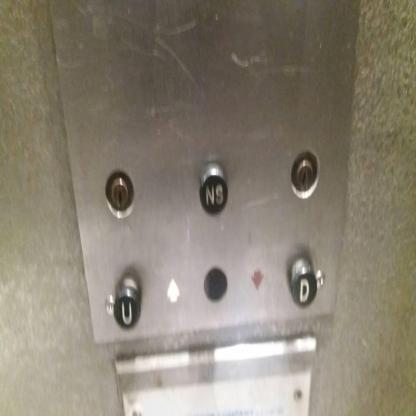D: (285, 257, 319, 310)
NS: (197, 162, 229, 221)
U: (113, 274, 141, 332)
empty: (201, 262, 229, 306)
keyhole: (290, 144, 322, 202), (103, 168, 136, 222)
